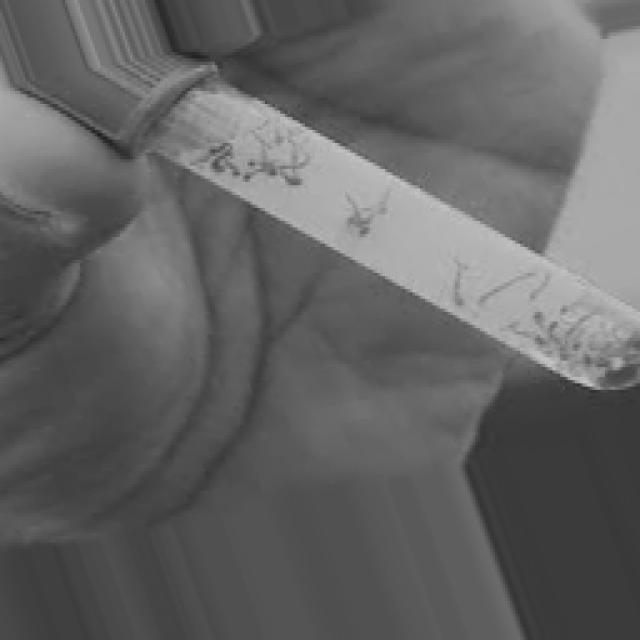larvas: (476, 274, 520, 304), (510, 317, 544, 350), (562, 312, 592, 346), (350, 195, 368, 235), (529, 308, 554, 335), (289, 138, 302, 188), (212, 148, 235, 172), (268, 160, 310, 173), (532, 272, 550, 302), (454, 258, 465, 305), (546, 320, 565, 346), (251, 127, 272, 148), (560, 298, 580, 316), (242, 170, 266, 182), (248, 158, 268, 169), (228, 162, 239, 176)
